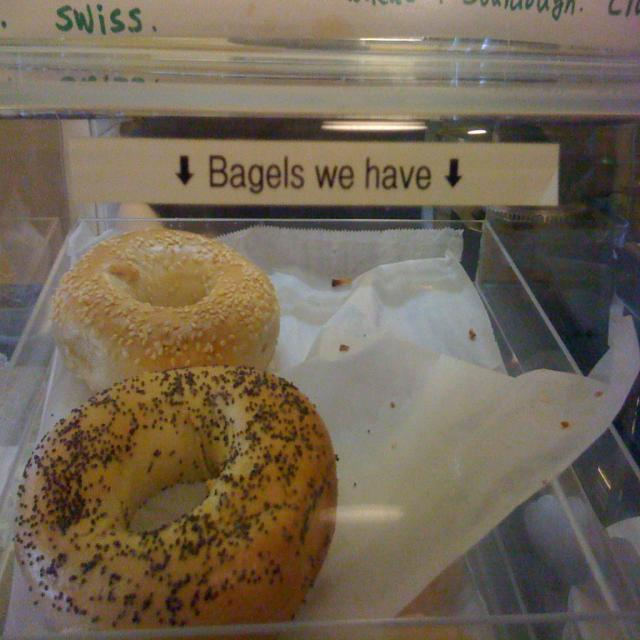Bagel: (12, 365, 340, 621), (51, 227, 280, 402)
